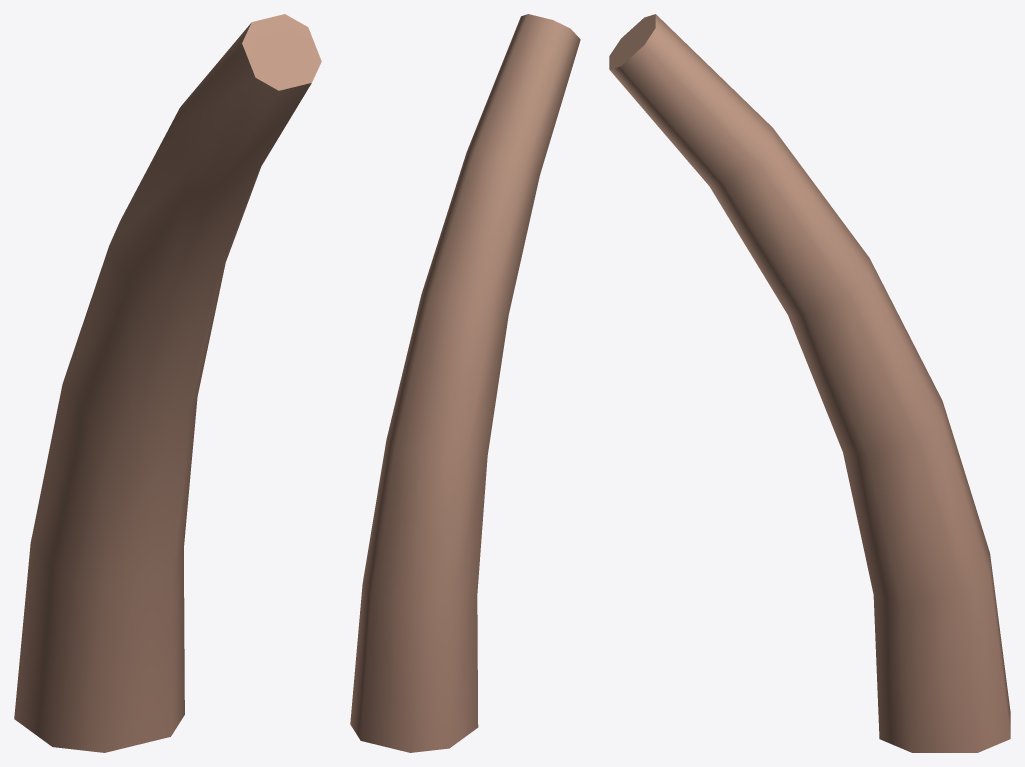
File: organic-twig-curved-b.glb
3 renders of one model, left to right at view 1: azimuth 30°, elevation 25°; view 2: azimuth 150°, elevation 25°; view 3: azimuth 270°, elevation 25°, orthographic. The views are drawn at different scales.
Visible parts, largest first — view 1: organic-twig-curved-b; view 2: organic-twig-curved-b; view 3: organic-twig-curved-b.
Part boxes in pixels (x1=…): organic-twig-curved-b: x1=14, y1=14, x2=321, y2=752; organic-twig-curved-b: x1=350, y1=14, x2=580, y2=752; organic-twig-curved-b: x1=609, y1=14, x2=1010, y2=752.
Bounding box in the file's own units: 0.05 × 0.2966 × 0.153.
